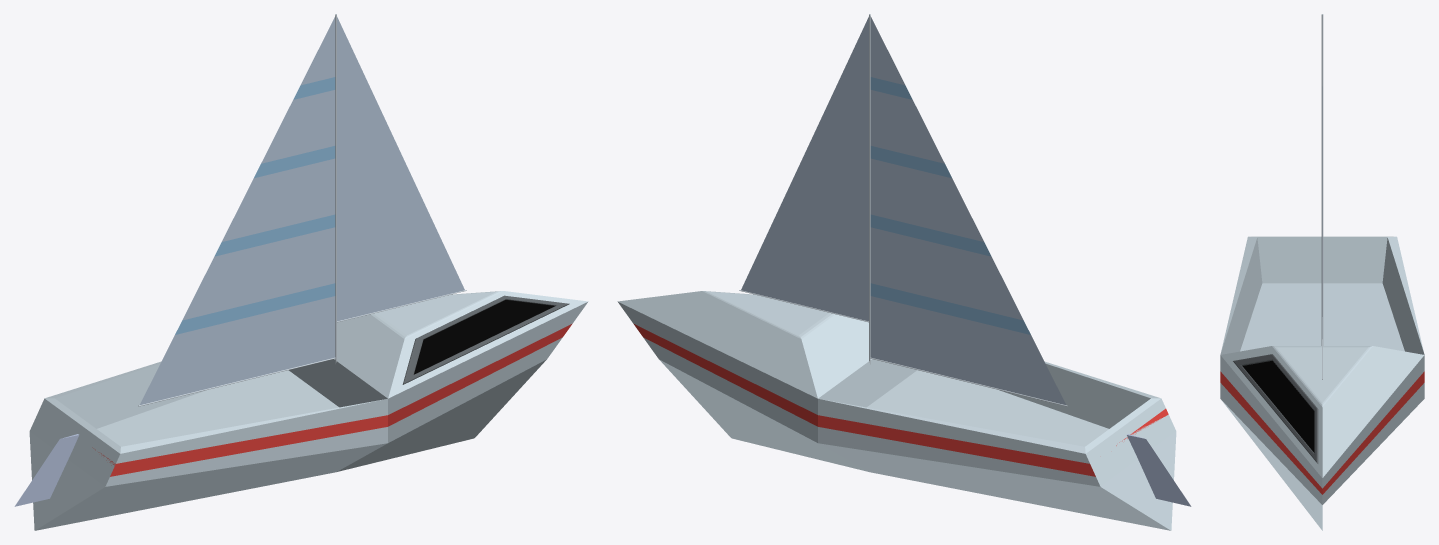
File: speedboat.glb
3 views of the same model, side by side, from view 1: azimuth 30°, elevation 25°; view 2: azimuth 150°, elevation 25°; view 3: azimuth 270°, elevation 25° (orthographic).
Parts seen in each view (by area): view 1: Body, SailBack, SailFront, Rudder, Mast; view 2: Body, SailBack, SailFront, Rudder, Mast; view 3: Body, Mast, SailFront.
Boxes of the visible parts, x1,y1,x2,y2 form: Body: (29,291,588,530); SailBack: (138,16,335,406); SailFront: (337,17,466,322); Rudder: (14,434,78,506); Mast: (335,14,336,364); Body: (617,291,1176,530); SailBack: (870,16,1067,406); SailFront: (739,17,868,322); Rudder: (1127,434,1191,506); Mast: (869,14,870,364); Body: (1220,236,1424,530); Mast: (1321,14,1323,345); SailFront: (1322,86,1322,379).
Bounding box in the file's own units: 8.74 × 6.66 × 2.74.
